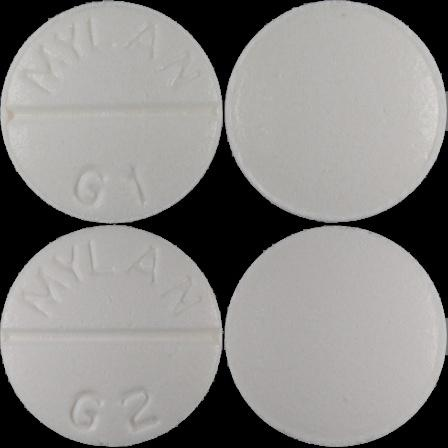0378-1105: (0, 0, 224, 224)
